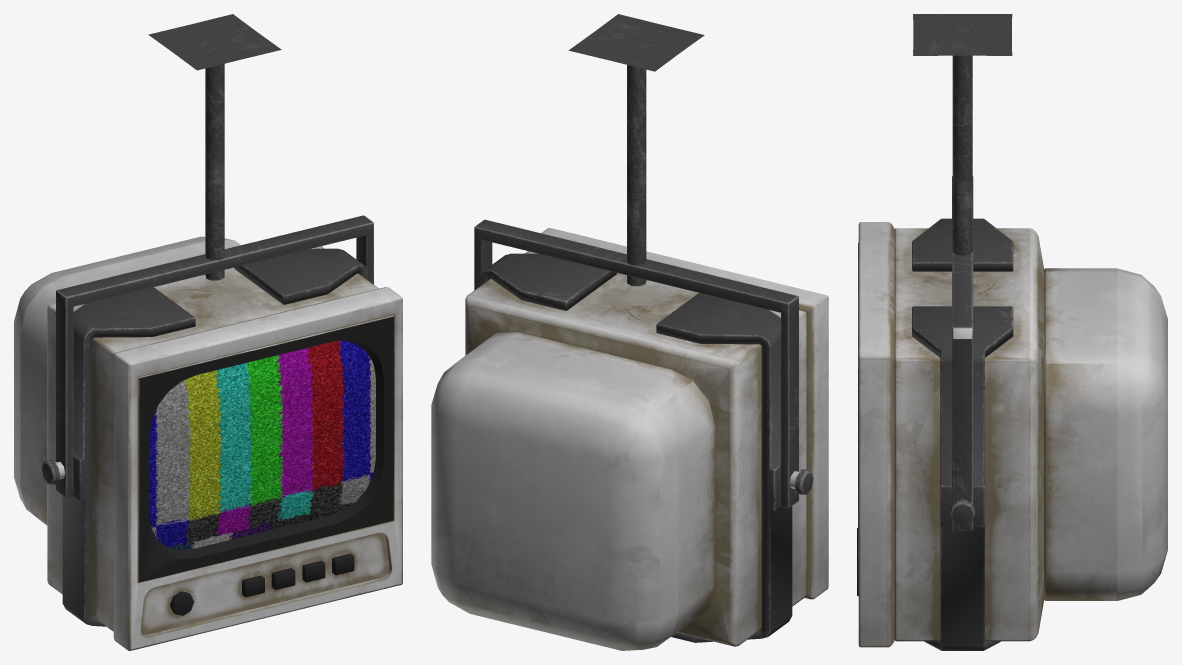
The model's file is old CRT CCTV_Textured.fbx.
3 renders of one model, left to right at view 1: azimuth 30°, elevation 25°; view 2: azimuth 150°, elevation 25°; view 3: azimuth 270°, elevation 25°, orthographic. The views are drawn at different scales.
Visible parts, largest first — view 1: TV, No Order Screen, TV_Frame_Attachment, Tv_Holder_Frame; view 2: TV, TV_Frame_Attachment, Tv_Holder_Frame; view 3: TV, Tv_Holder_Frame, TV_Frame_Attachment.
Boxes of the visible parts, x1,y1,x2,y2 form: TV: (14, 236, 402, 650); No Order Screen: (149, 340, 375, 550); TV_Frame_Attachment: (41, 14, 373, 497); Tv_Holder_Frame: (62, 248, 367, 626); TV: (431, 228, 828, 650); TV_Frame_Attachment: (474, 14, 813, 507); Tv_Holder_Frame: (481, 253, 792, 642); TV: (857, 222, 1167, 647); Tv_Holder_Frame: (912, 218, 1013, 650); TV_Frame_Attachment: (913, 14, 1012, 530).
Bounding box in the file's own units: 244 × 378 × 193.
Materials: 7 (7 with a texture image).
